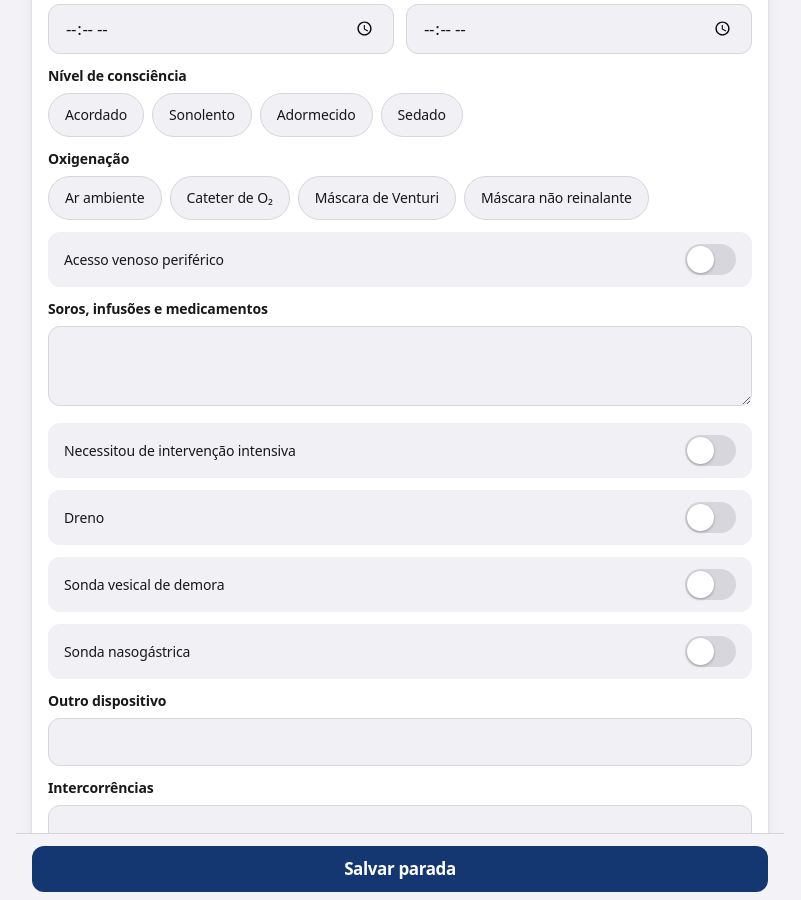
Test: Ficha cirúrgica › cateter central e droga vasoativa só aparecem com intervenção intensiva
(page scrolled)
Expected: the field labelled "Cateter venoso central" is not shown
Expected: the field labelled "Drogas vasoativas" is not shown
Click the checkbox labelled "Necessitou de intervenção intensiva".
click(180, 450)  # box [48,422,752,478]
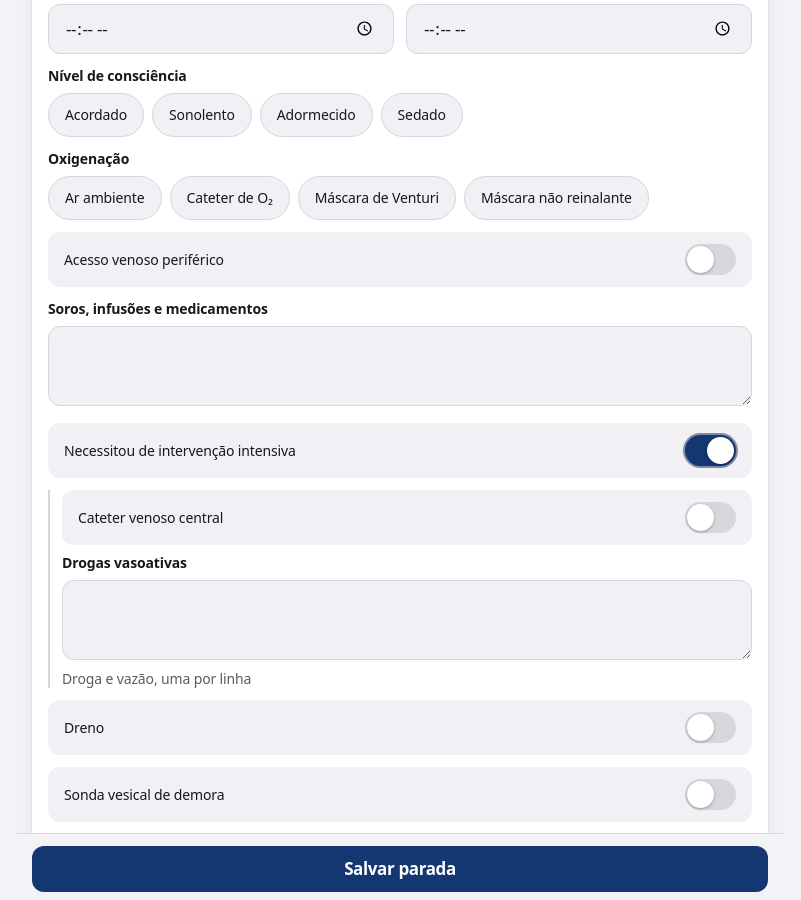
Expected: the checkbox labelled "Cateter venoso central" is shown, [62,490,752,544]
Expected: the text box labelled "Drogas vasoativas Droga e vazão, uma por linha" is shown, [62,580,752,660]
